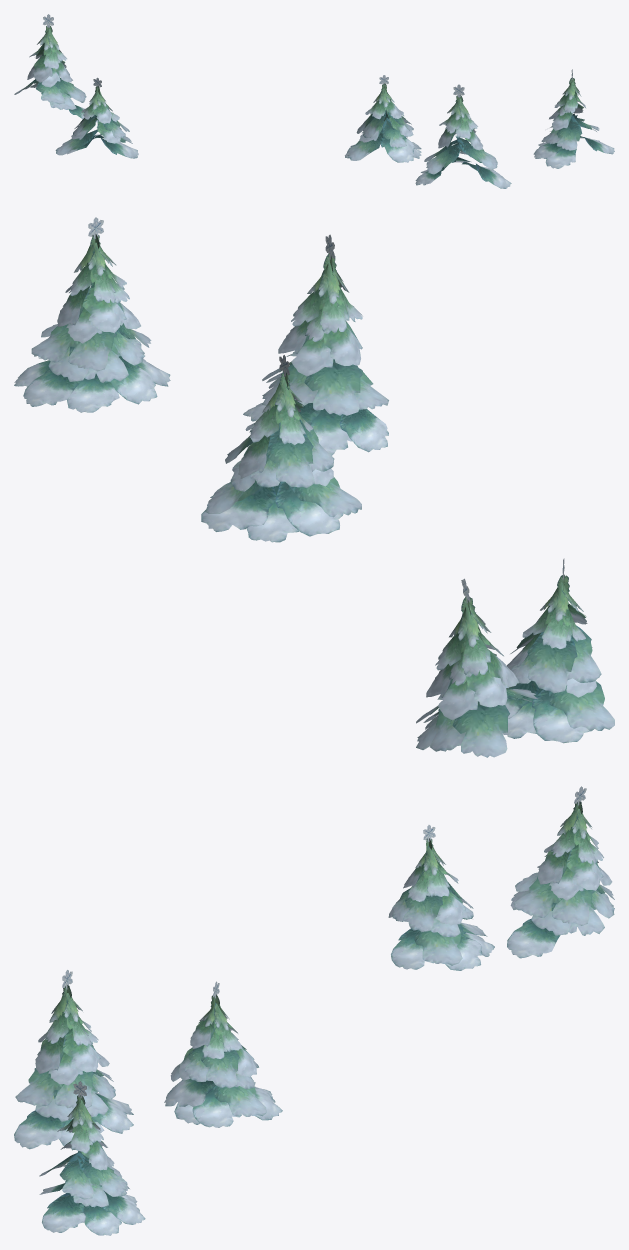
The model's file is pref_sm_beach_bk_winter_pointmol_longplant_R04_lv1.fbx.
3 views of the same model, one above another, from view 1: azimuth 30°, elevation 25°; view 2: azimuth 150°, elevation 25°; view 3: azimuth 270°, elevation 25° (orthographic). The views are drawn at different scales.
Parts seen in each view (by area): view 1: pref_sm_beach_bk_winter_pointmol_longplant_R04_lv1; view 2: pref_sm_beach_bk_winter_pointmol_longplant_R04_lv1; view 3: pref_sm_beach_bk_winter_pointmol_longplant_R04_lv1.
Part boxes in pixels (x1,y1,x2,y2): pref_sm_beach_bk_winter_pointmol_longplant_R04_lv1: (14,14,614,188); pref_sm_beach_bk_winter_pointmol_longplant_R04_lv1: (14,217,614,757); pref_sm_beach_bk_winter_pointmol_longplant_R04_lv1: (14,786,614,1235).
Bounding box in the file's own units: 37.04 × 8.88 × 29.87.
1 material, 1 textured.
